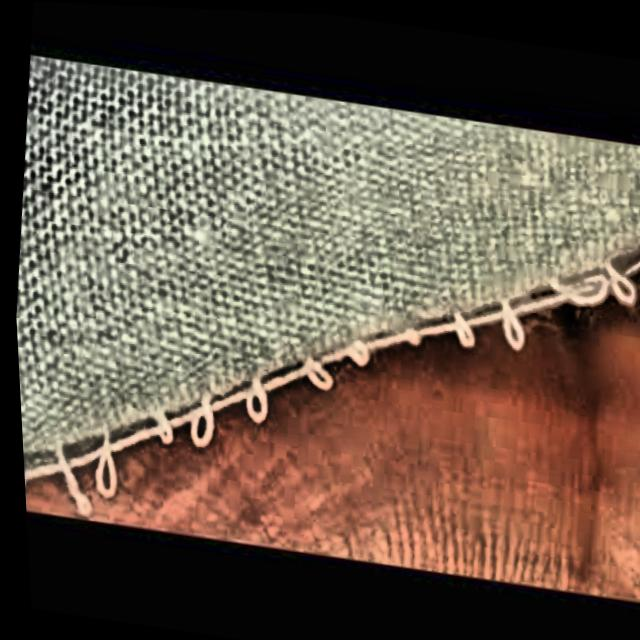Stitch: (5, 129, 640, 594)
